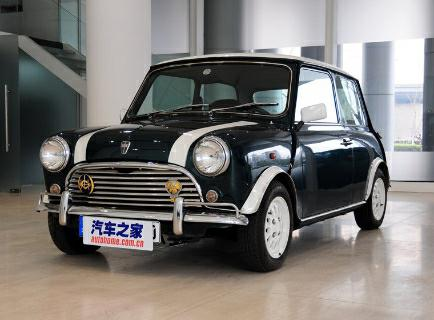MINI: (21, 50, 375, 276)
